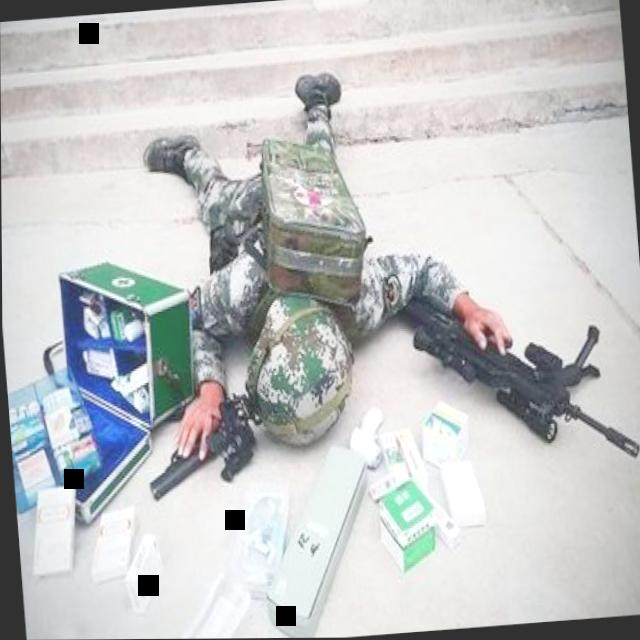Fall-Detected: (90, 47, 534, 501)
